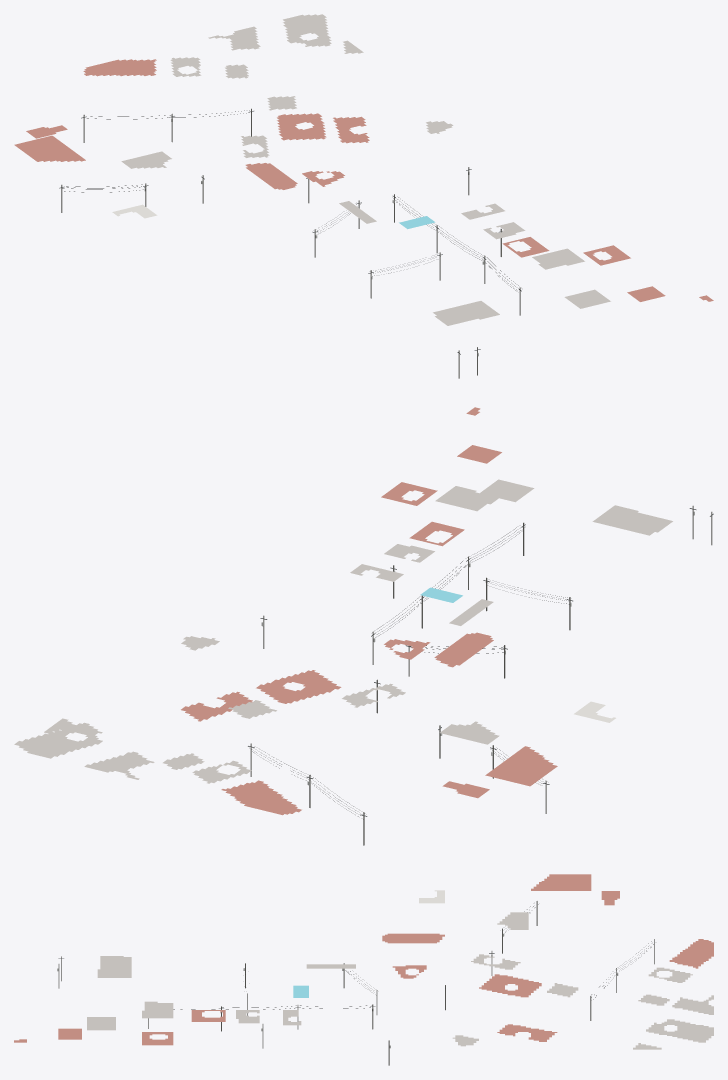
The model's file is tw_detail.glb.
The picture shows the model from 3 angles, top to bottom: view 1: azimuth 30°, elevation 25°; view 2: azimuth 150°, elevation 25°; view 3: azimuth 270°, elevation 25°; orthographic projection. The views are drawn at different scales.
Visible parts, largest first — view 1: tw_detail; view 2: tw_detail; view 3: tw_detail.
Part boxes in pixels (left/top/right/bottom): tw_detail: left=14, top=14, right=713, bottom=378; tw_detail: left=14, top=407, right=713, bottom=845; tw_detail: left=14, top=874, right=713, bottom=1065.
Bounding box in the file's own units: 146 × 20.22 × 268.
